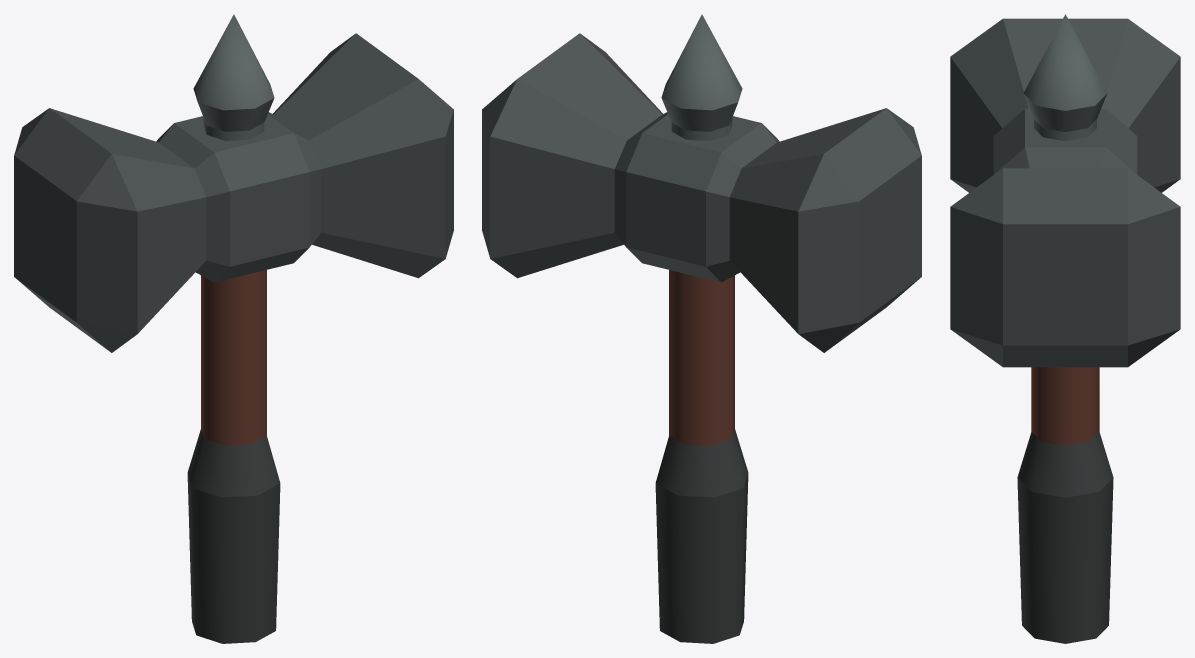
File: Hammer_RHand_1.fbx
3 views of the same model, side by side, from view 1: azimuth 30°, elevation 25°; view 2: azimuth 150°, elevation 25°; view 3: azimuth 270°, elevation 25° (orthographic).
Parts seen in each view (by area): view 1: Hammer_RHand_1; view 2: Hammer_RHand_1; view 3: Hammer_RHand_1.
Boxes of the visible parts, box(x1,y1,x2,y2) form: Hammer_RHand_1: box(14, 14, 453, 643); Hammer_RHand_1: box(482, 14, 921, 643); Hammer_RHand_1: box(950, 14, 1180, 643).
Size of the model in its own units: 34.85 by 54.07 by 18.46.
